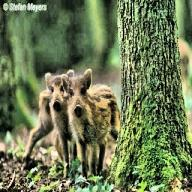boar: (66, 68, 120, 180)
